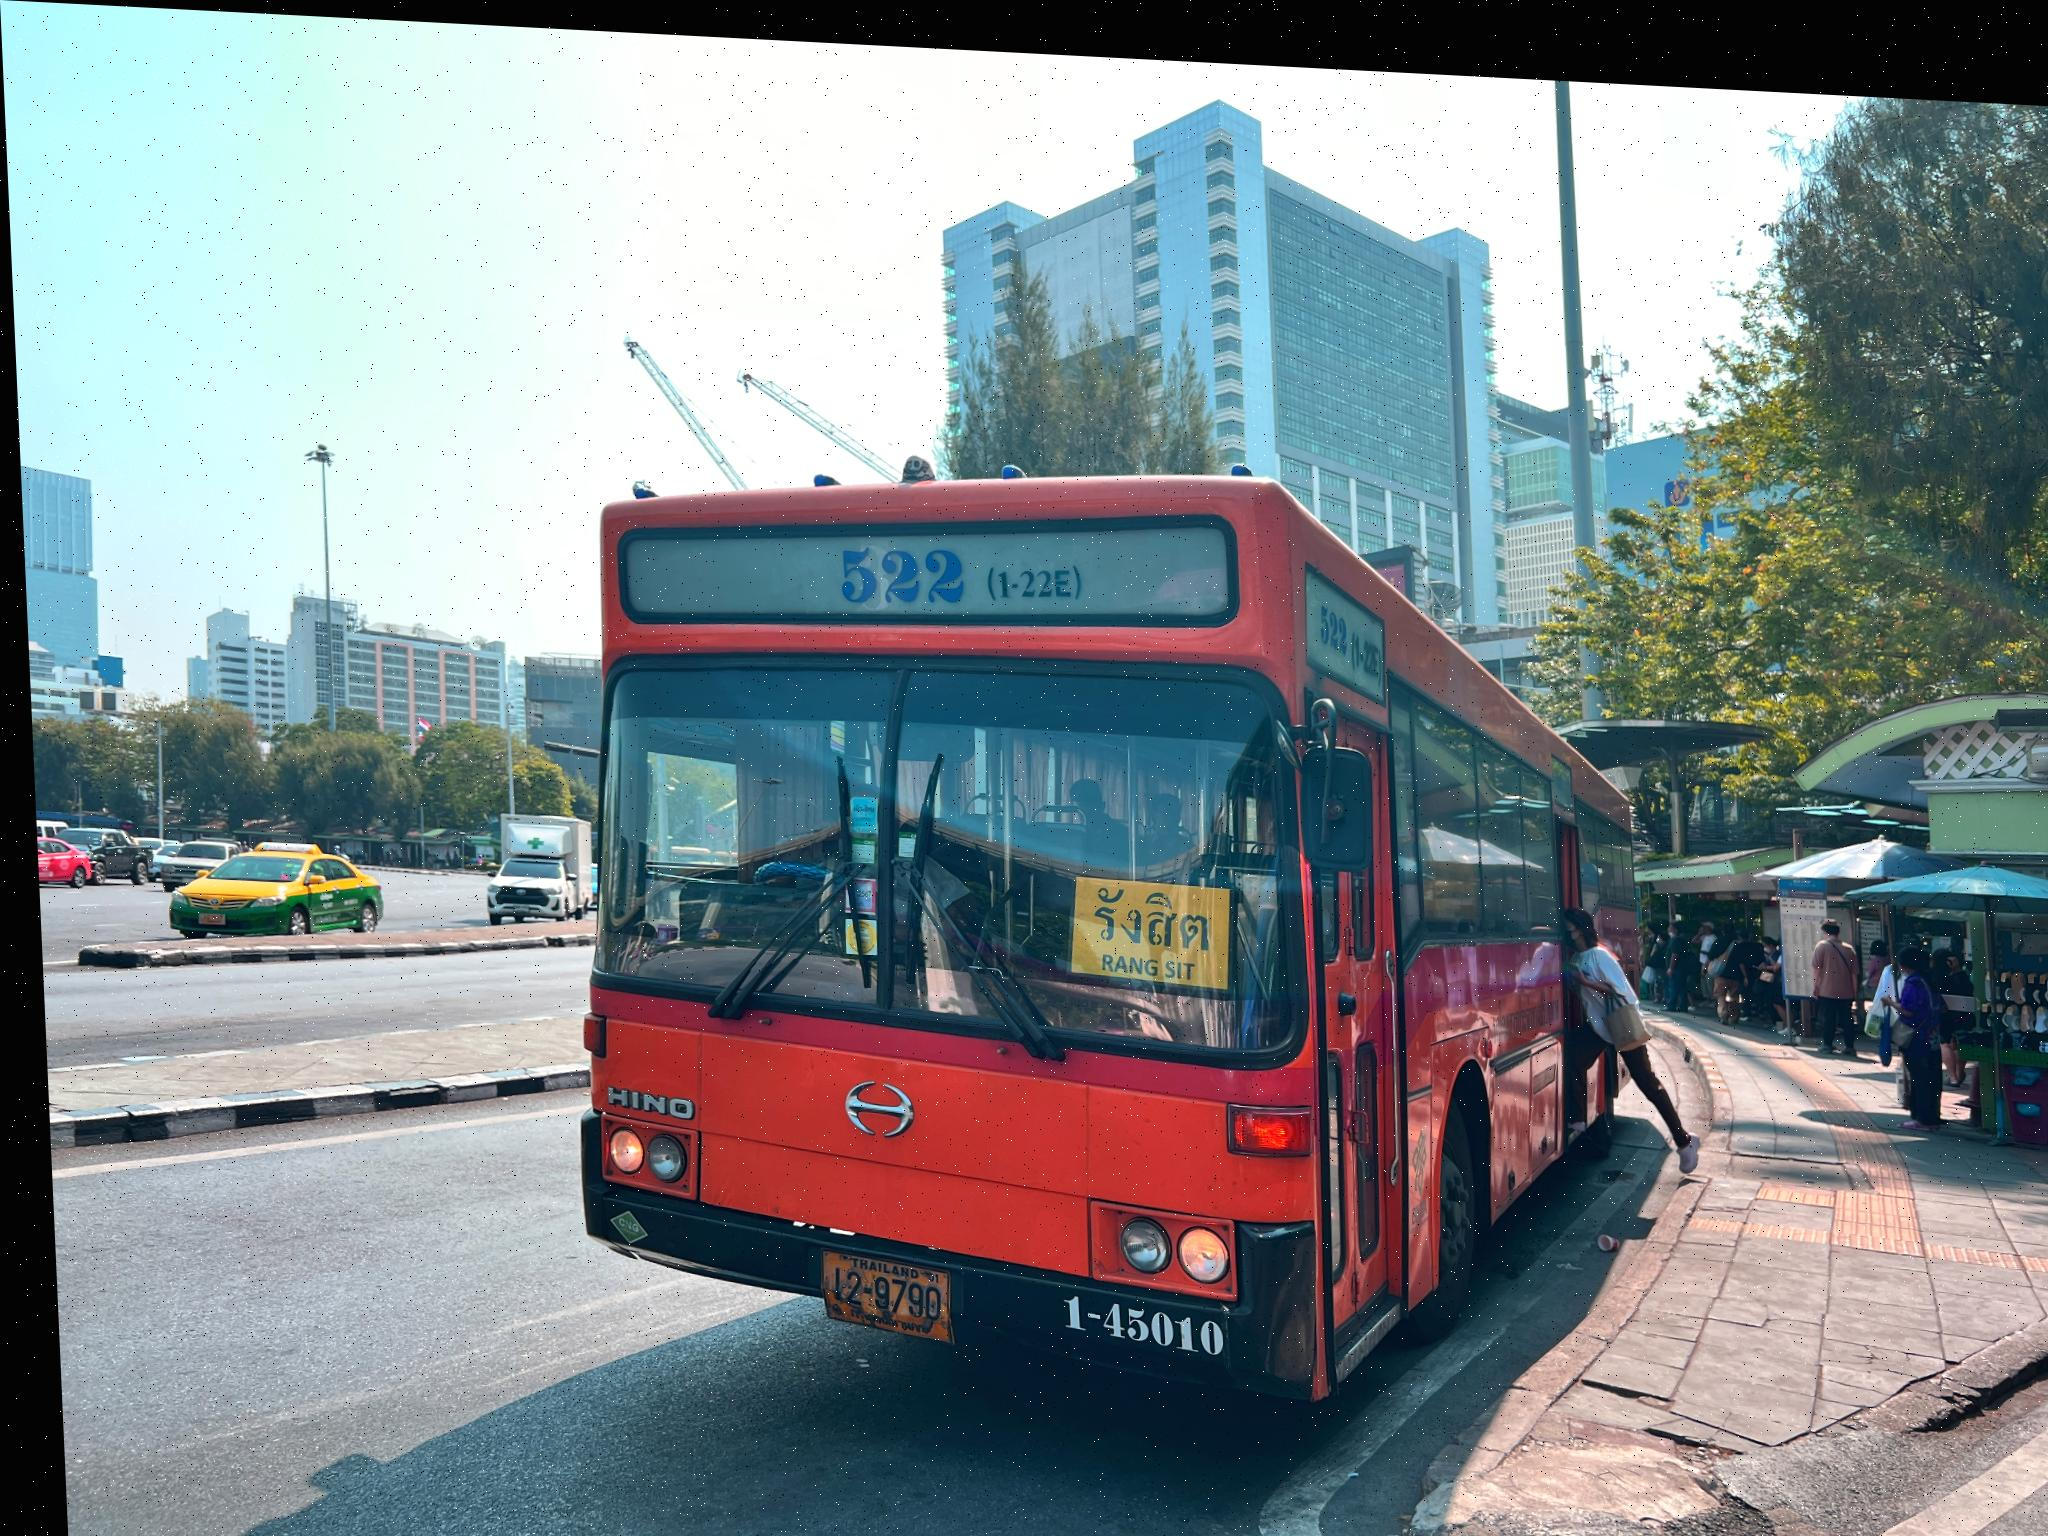BMTA-bus: (566, 465, 1632, 1397)
Bus Line Number: (816, 524, 1093, 616)
Bus Side Number: (1043, 1268, 1224, 1355)
Destination Sign: (1055, 868, 1230, 989)
